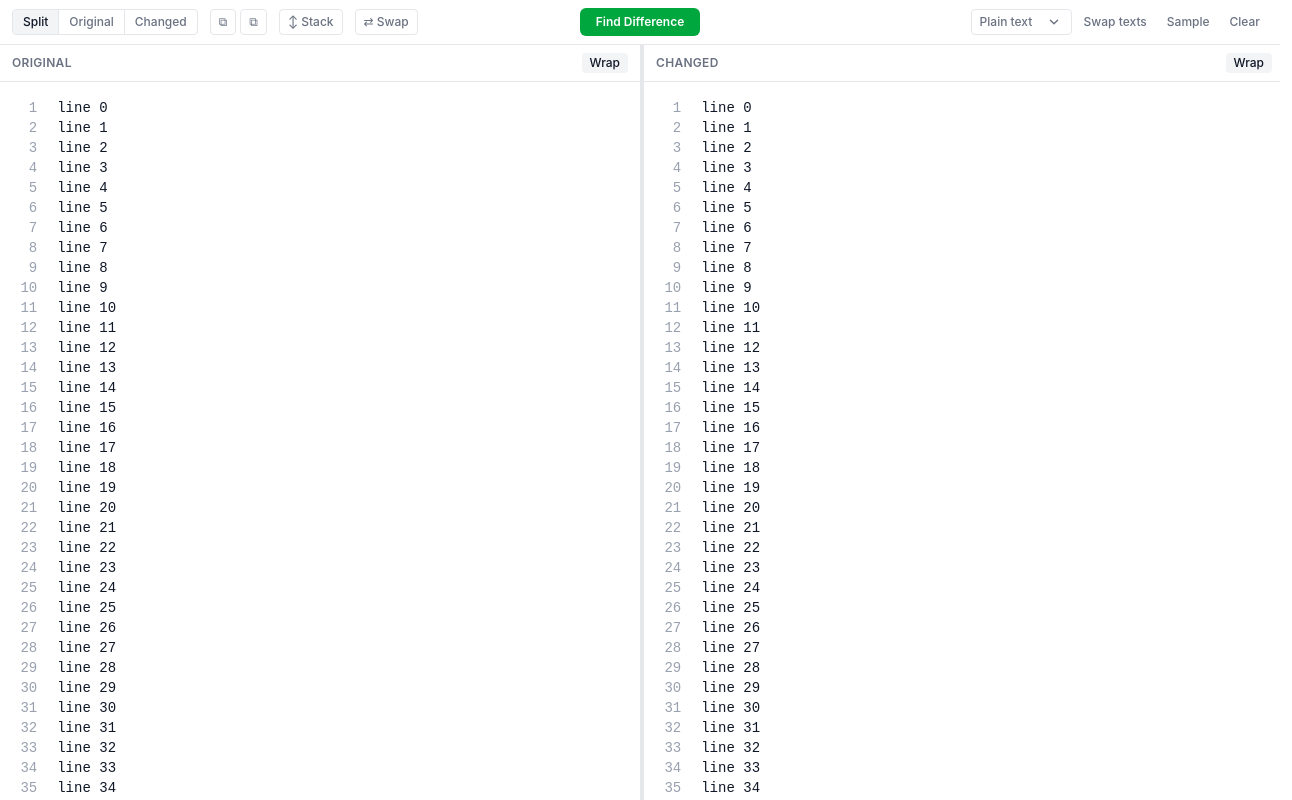
DiffChecker › locks vertical scroll between the two panes
Step 1. Click the button "Find Difference" → (640, 22), box top-left (580, 8), bottom-right (700, 36)
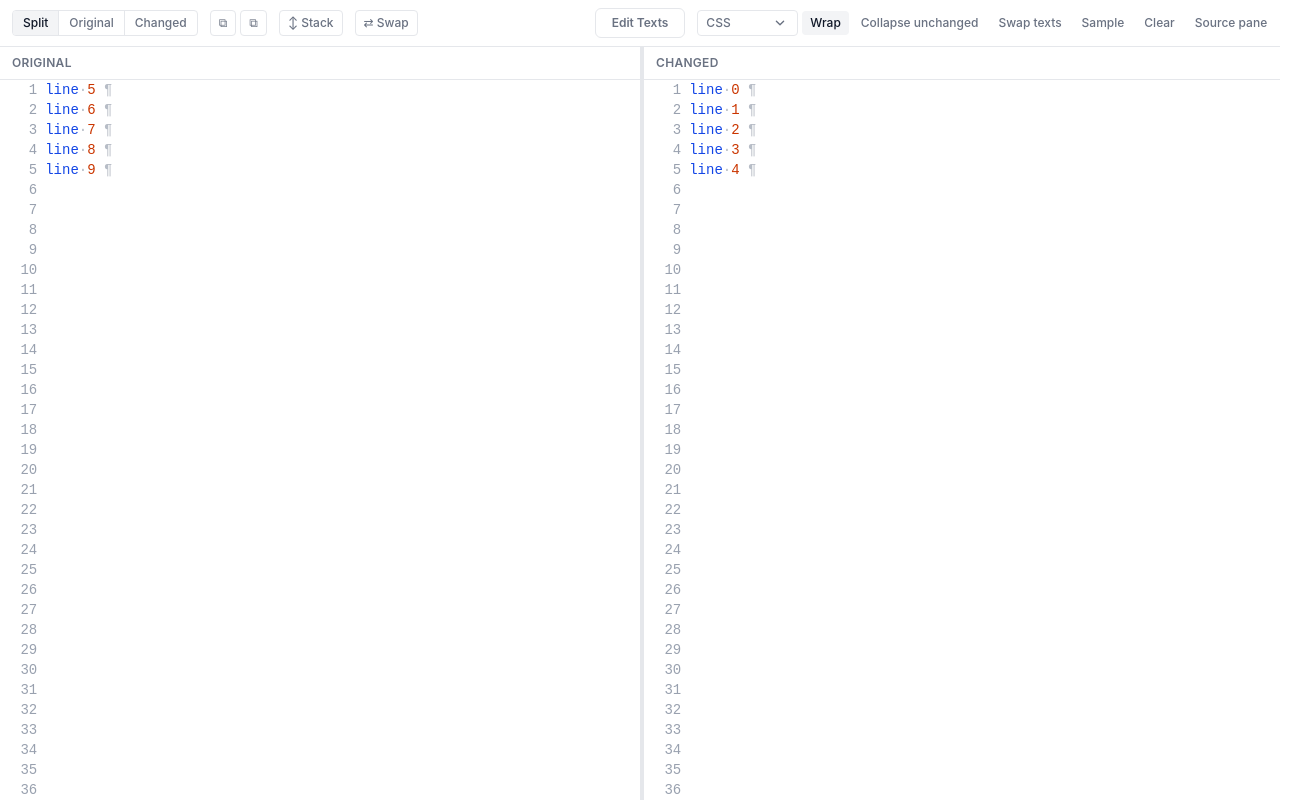
Expected: the element with class "overflow-auto" that starts with "line" is shown, top-left (45, 80), bottom-right (121, 198)
